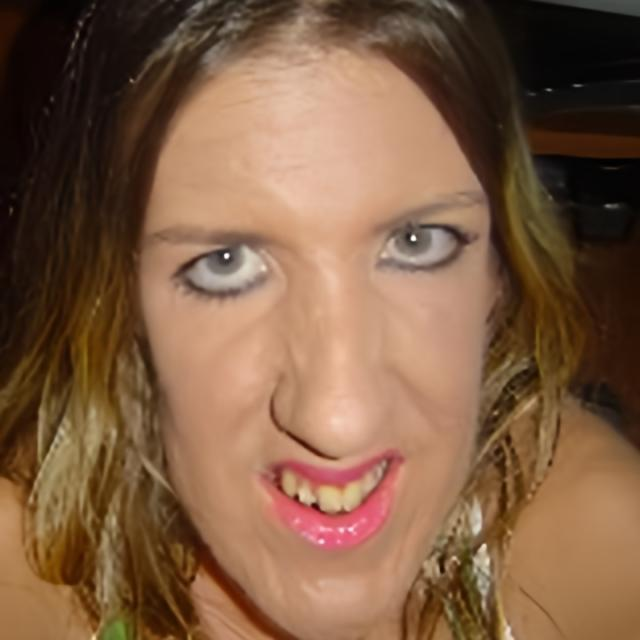disgust: (138, 0, 489, 640)
